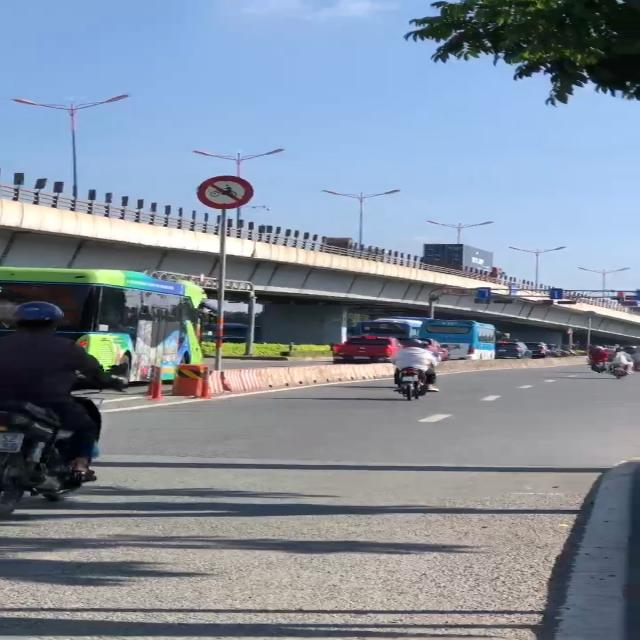Bien bao cam xe may: (181, 173, 249, 215)
